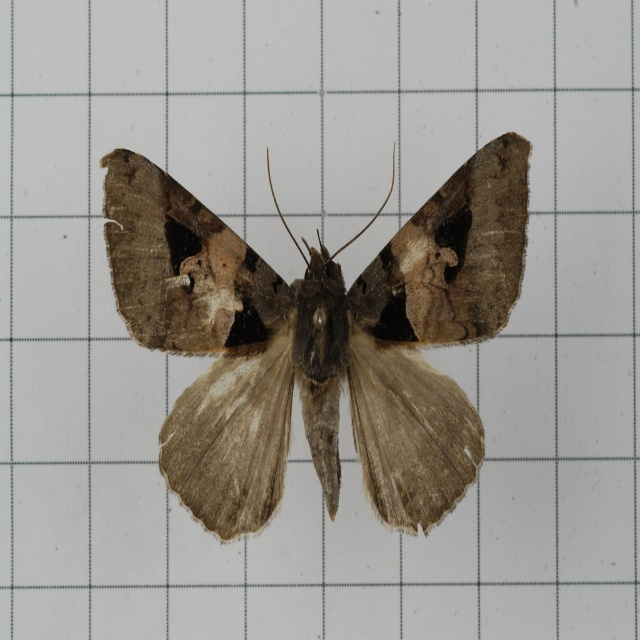Butterfly: (96, 137, 522, 538)
